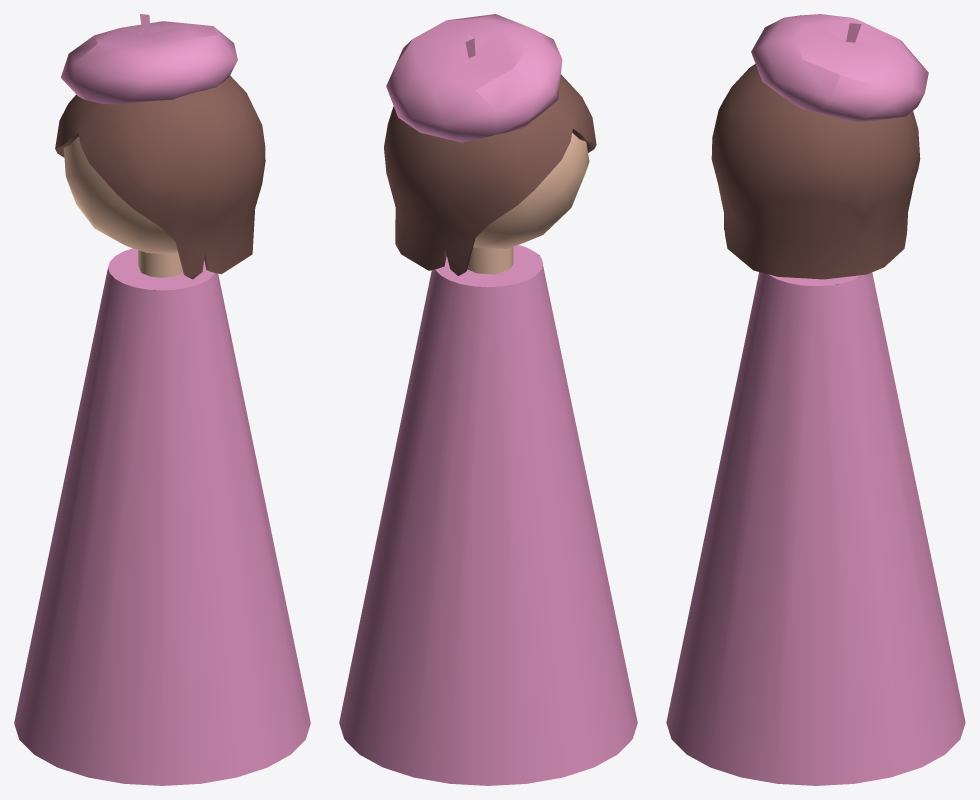
File: per_pickMe.fbx
The picture shows the model from 3 angles, left to right: view 1: azimuth 30°, elevation 25°; view 2: azimuth 150°, elevation 25°; view 3: azimuth 270°, elevation 25°; orthographic projection.
Visible parts, largest first — view 1: Cone.005; view 2: Cone.005; view 3: Cone.005.
Part boxes in pixels (<box>): Cone.005: <box>14,14,310,785</box>; Cone.005: <box>339,14,637,785</box>; Cone.005: <box>666,14,965,785</box>.
Bounding box in the file's own units: 200 × 517 × 200.
